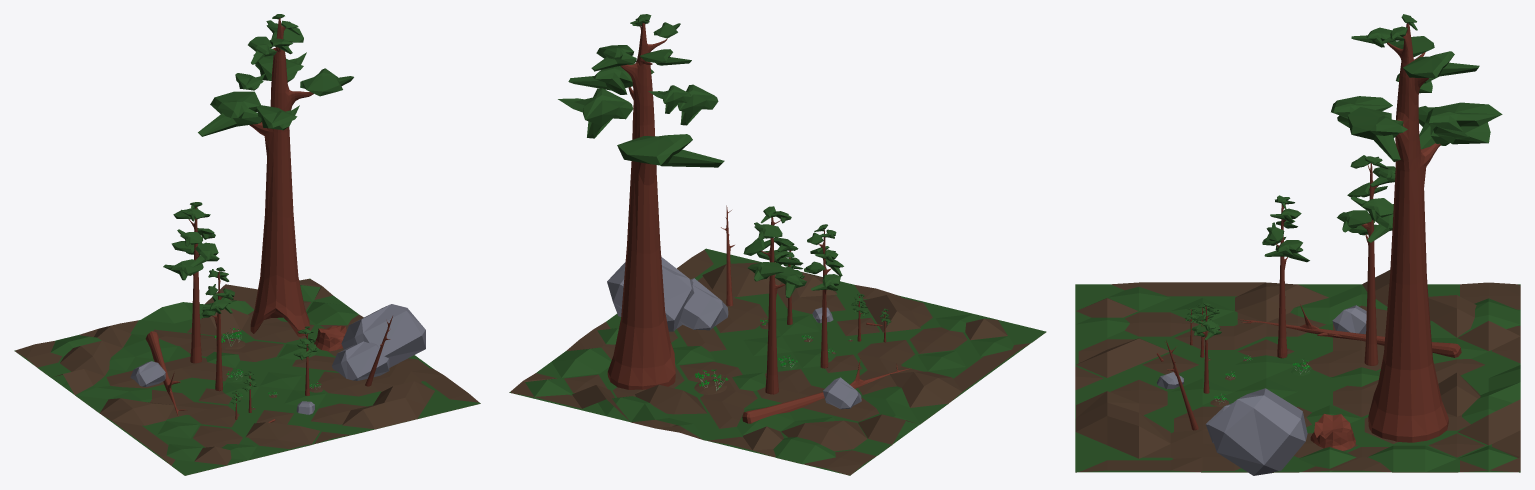
The model's file is Sequioa_Scene3.dae.
The picture shows the model from 3 angles, left to right: view 1: azimuth 30°, elevation 25°; view 2: azimuth 150°, elevation 25°; view 3: azimuth 270°, elevation 25°; orthographic projection. The views are drawn at different scales.
Visible parts, largest first — view 1: ground, mossGround, giantSequioa, Cube_424, Icosphere, Cube_422, sequoia001_002, Icosphere_001, Icosphere_007, Cube_423, Icosphere_008, Cube (+2 smaller); view 2: ground, mossGround, giantSequioa, Icosphere, Cube_424, Icosphere_008, Cube_422, sequoia001_002, sequoia001_005, Icosphere_001, Icosphere_007, Cube_423 (+3 smaller); view 3: ground, mossGround, giantSequioa, Cube_424, Icosphere_008, Icosphere_001, sequoia001_002, Cube, Icosphere_002, sequoia001_005, Icosphere_007, sequioa002 (+4 smaller).
Part boxes in pixels (x1,y1,x2,y2): ground: (15, 279, 480, 475); mossGround: (14, 278, 480, 475); giantSequioa: (249, 18, 313, 336); Cube_424: (341, 304, 425, 367); Icosphere: (198, 91, 261, 136); Cube_422: (332, 341, 389, 380); sequoia001_002: (189, 207, 202, 363); Icosphere_001: (300, 68, 353, 96); Icosphere_007: (256, 105, 299, 130); Cube_423: (130, 361, 165, 386); Icosphere_008: (253, 52, 306, 82); Cube: (314, 325, 346, 351); ground: (509, 249, 1044, 475); mossGround: (509, 248, 1046, 475); giantSequioa: (607, 23, 675, 389); Icosphere: (617, 134, 724, 167); Cube_424: (607, 257, 694, 331); Icosphere_008: (558, 88, 633, 138); Cube_422: (680, 278, 728, 330); sequoia001_002: (761, 217, 785, 394); sequoia001_005: (742, 357, 911, 423); Icosphere_001: (568, 63, 654, 94); Icosphere_007: (677, 84, 718, 125); Cube_423: (823, 377, 861, 409); ground: (1075, 270, 1520, 472); mossGround: (1075, 284, 1520, 472); giantSequioa: (1368, 23, 1448, 442); Cube_424: (1208, 388, 1307, 475); Icosphere_008: (1425, 102, 1502, 144); Icosphere_001: (1347, 107, 1407, 161); sequoia001_002: (1361, 163, 1378, 365); Cube: (1310, 414, 1355, 450); Icosphere_002: (1403, 51, 1479, 77); sequoia001_005: (1237, 304, 1461, 357); Icosphere_007: (1331, 96, 1392, 127); sequioa002: (1276, 203, 1287, 358).
Bounding box in the file's own units: 20.59 × 20 × 21.64.
